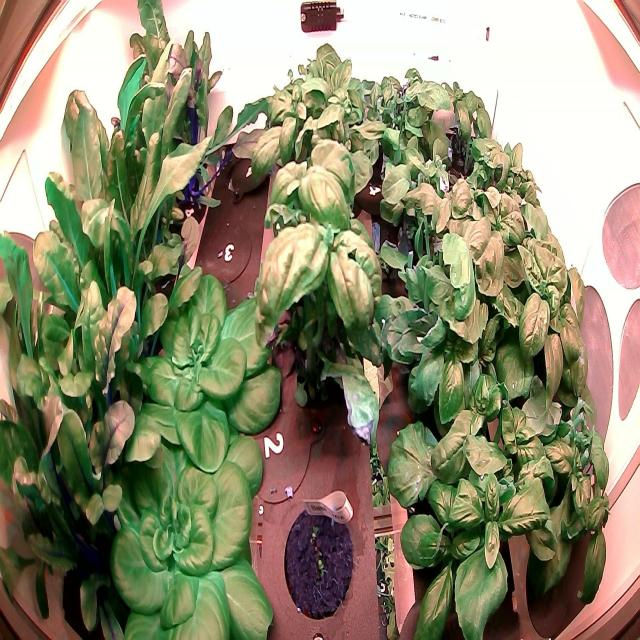empty_pod: (199, 199, 255, 294), (222, 135, 273, 211)
pod: (278, 491, 361, 630)
young: (101, 417, 279, 640), (121, 264, 284, 482)
